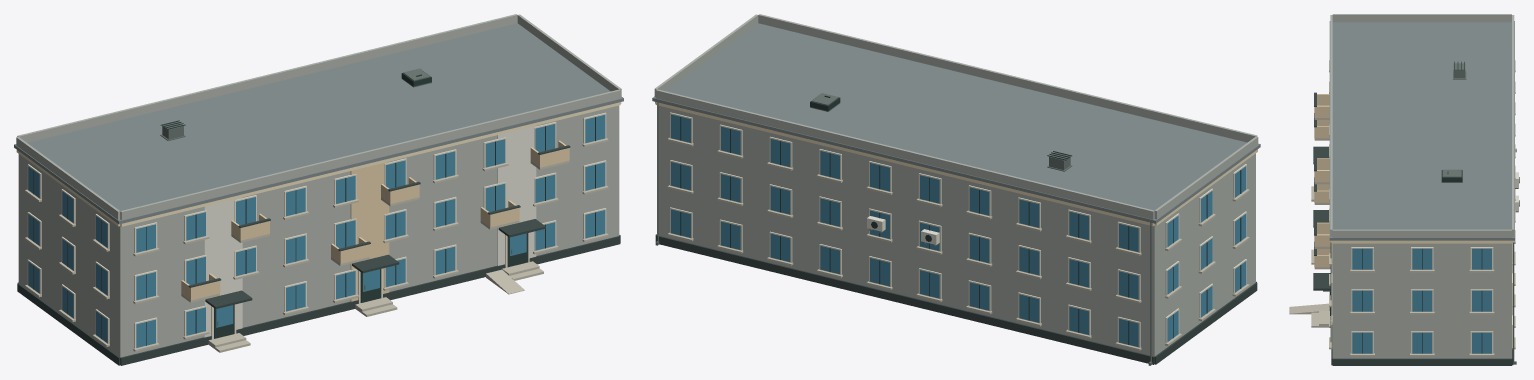
File: Sectional3.obj
3 views of the same model, side by side, from view 1: azimuth 30°, elevation 25°; view 2: azimuth 150°, elevation 25°; view 3: azimuth 270°, elevation 25° (orthographic). The views are drawn at different scales.
Visible parts, largest first — view 1: Sectional3; view 2: Sectional3; view 3: Sectional3.
Part boxes in pixels (x1,y1,x2,y2): Sectional3: (14,14,623,365); Sectional3: (652,14,1260,365); Sectional3: (1289,14,1519,365).
Size of the model in its own units: 34.5 by 10.24 by 15.42.
Materials: 1 (1 with a texture image).
